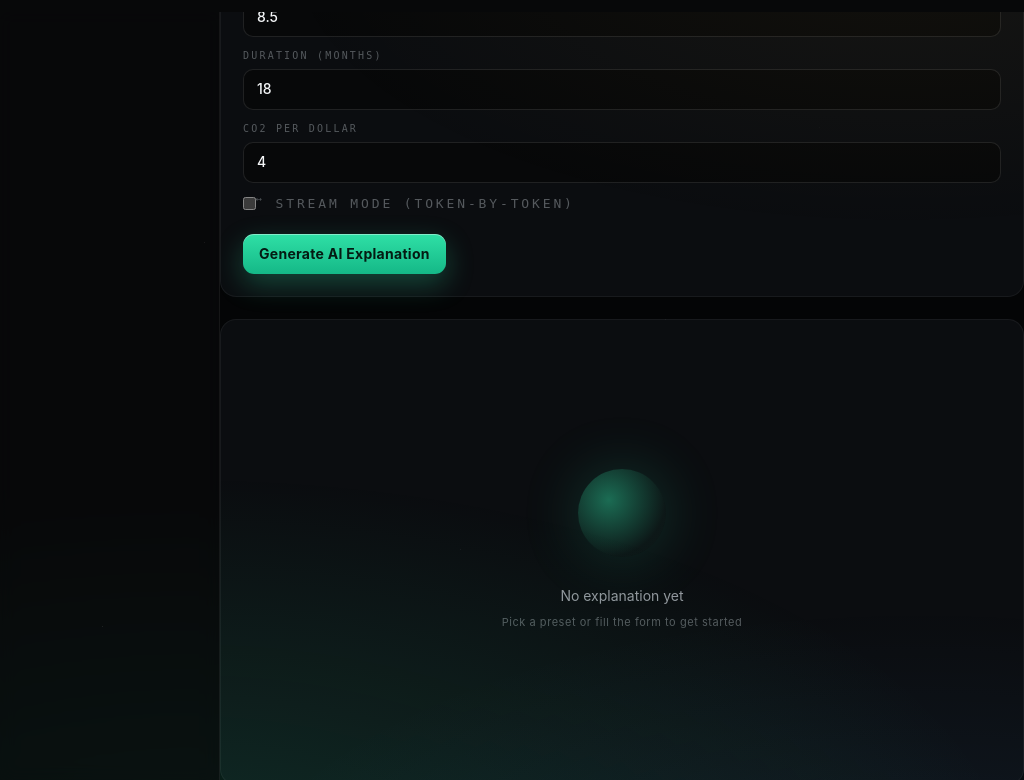
Test: CopilotPage (production path) › labels the presentation mode 'Mode', not 'Confidence' (F020)
(page scrolled)
Click the button "Generate AI Explanation" at (344, 254), box [243, 234, 446, 274]
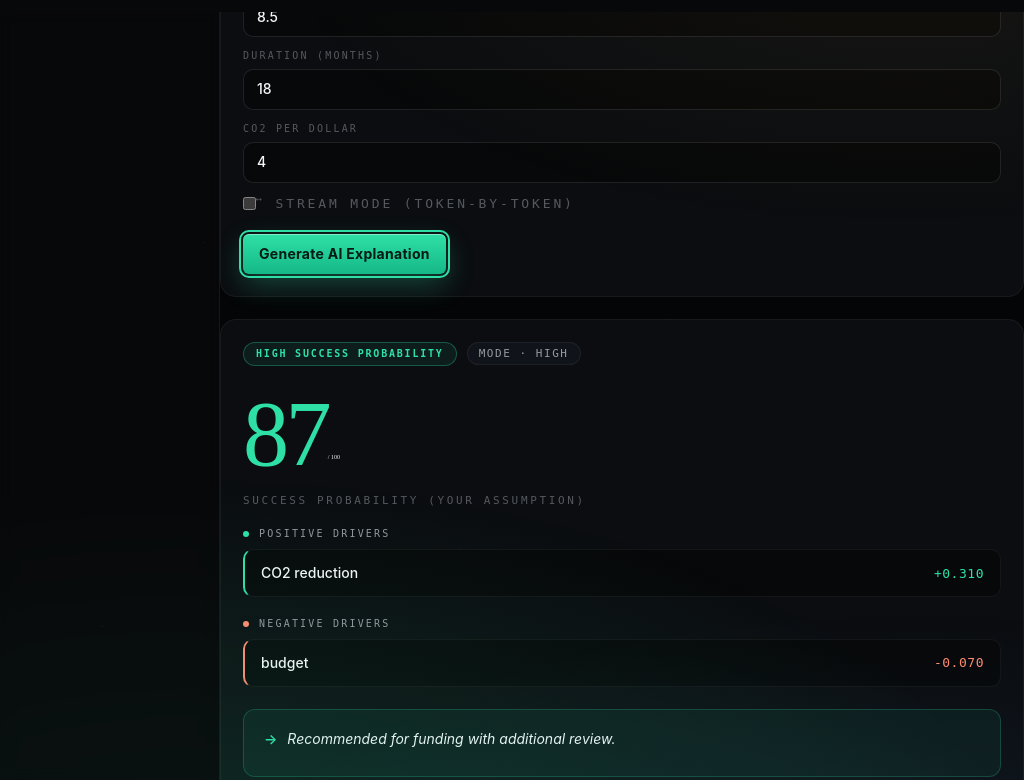
Check: the text "Recommended for funding with additional review." is shown, box [287, 728, 615, 750]
Check: the text with class "confidence-chip" reads "Mode · high", box [467, 342, 580, 366]
